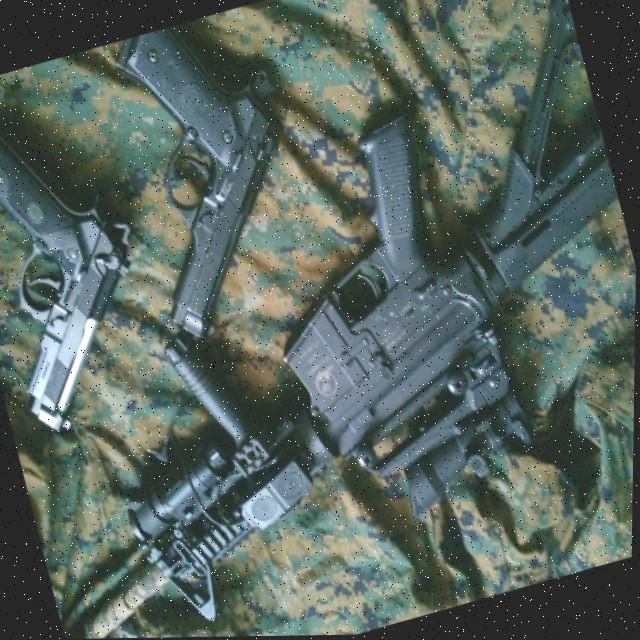firearm: (0, 0, 640, 640)
pistol: (96, 3, 335, 350), (0, 92, 181, 444)
